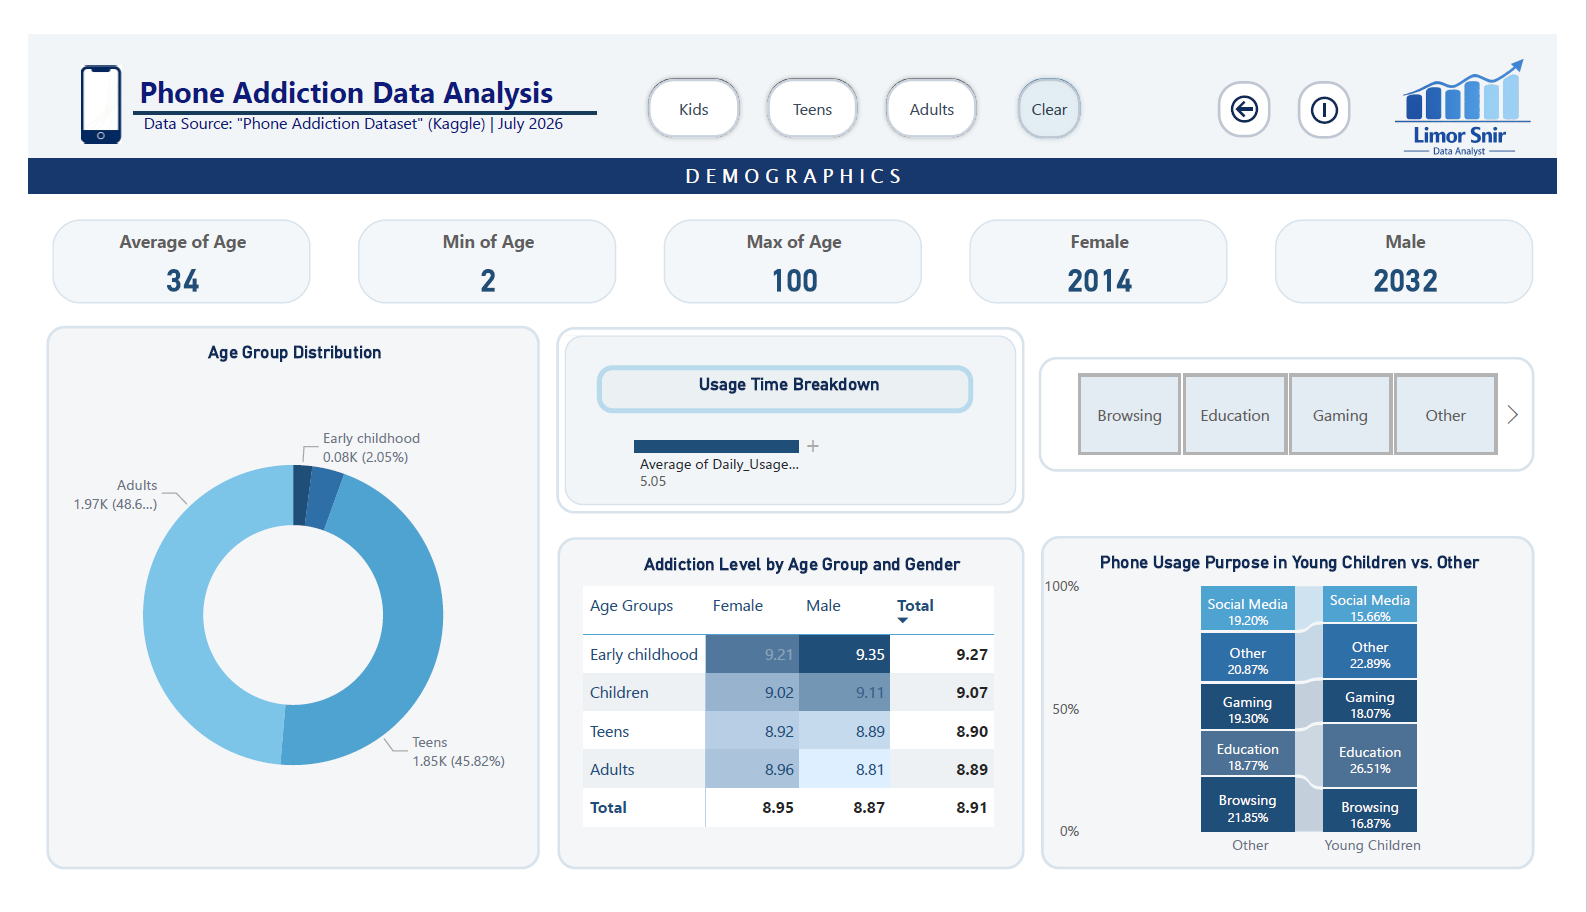

This screenshot's page, from the dashboard's own definition file:
{"tool":"powerbi","page":{"name":"DEMOGRAPHICS","canvas":[1280,720],"ordinal":1},"visuals":[{"type":"decompositionTreeVisual","title":"Average of Addiction Levels by UsagePurpose and Age","fields":{"Analyze":["Avg(phone_addiction_dataset.Daily_Usage_Hours)"],"ExplainBy":["phone_addiction_dataset.Age Groups","phone_addiction_dataset.Phone_Usage_Purpose"]},"box":[476.8,178.6,357.2,227.2],"z":0},{"type":"cardVisual","fields":{"Data":["Avg(phone_addiction_dataset.Age)","Min(phone_addiction_dataset.Age)1","Max(phone_addiction_dataset.Age)2","!measure.Female","!measure.Male"]},"box":[0,100,1280,141.2],"z":1000},{"type":"textbox","title":"text box Title","box":[0,5,1280,108.8],"z":3000},{"type":"shape","box":[442.2,249.7,391.9,156.1],"z":4000},{"type":"card","title":"Usage Time Breakdown","fields":{"Values":["Min(phone_addiction_dataset.Addiction Level Groups)"]},"box":[476.2,282.3,315.2,39.8],"z":5000},{"type":"shape","box":[5.5,74.7,1274.5,71],"z":16000},{"type":"donutChart","title":"Age Group Distribution","fields":{"Category":["phone_addiction_dataset.Age Groups"],"Y":["CountNonNull(phone_addiction_dataset.Index)"]},"box":[15,248.8,412.5,455],"z":29000},{"type":"shape","box":[0,108.8,1280,28.8],"z":32000},{"type":"pivotTable","title":"Addiction Level by Age Group and Gender","fields":{"Rows":["phone_addiction_dataset.Age Groups"],"Values":["Avg(phone_addiction_dataset.Addiction_Level)"],"Columns":["phone_addiction_dataset.Gender"]},"box":[442.7,425.5,391.3,278.8],"z":33000},{"type":"slicer","title":"Select usage purpose","fields":{"Values":["phone_addiction_dataset.Phone_Usage_Purpose"]},"box":[846.2,275.1,414.5,95.4],"z":35000},{"type":"hundredPercentStackedColumnChart","title":"Phone Usage Purpose in Young Children vs. Other","fields":{"Category":["phone_addiction_dataset.Young Children vs. Other"],"Y":["CountNonNull(phone_addiction_dataset.Index)"],"Series":["phone_addiction_dataset.Phone_Usage_Purpose"]},"box":[848,425.4,413,278.6],"z":36000},{"type":"image","box":[8.6,26.1,104.3,75.1],"z":37000},{"type":"image","box":[1129.7,18.1,141.9,93.2],"z":38000},{"type":"shape","box":[614.6,37.6,83.2,57.7],"z":39000},{"type":"shape","box":[515.3,37.6,83.2,57.7],"z":40000},{"type":"actionButton","box":[825,38,60,58.3],"z":41000},{"type":"shape","box":[715.3,37.6,83.2,57.7],"z":42000},{"type":"shape","box":[87.7,0,388.2,140.5],"z":43000},{"type":"actionButton","box":[1062.5,44,44,47.5],"z":44000},{"type":"actionButton","box":[996.2,44,44,47],"z":45000}]}

Visuals, with their boxes in screenshot pixels (x1, y1, x2, y2), scaled from the page's 1280x720 canvas onto the 1587x912 screenshot:
"Average of Addiction Levels by UsagePurpose and Age" decompositionTreeVisual: 591, 226, 1034, 514
cardVisual - Avg(phone_addiction_dataset.Age) x Min(phone_addiction_dataset.Age)1: 0, 127, 1586, 306
"text box Title" textbox: 0, 6, 1586, 144
shape: 548, 316, 1034, 514
"Usage Time Breakdown" card: 590, 358, 981, 408
shape: 7, 95, 1586, 185
"Age Group Distribution" donutChart: 19, 315, 530, 891
shape: 0, 138, 1586, 174
"Addiction Level by Age Group and Gender" pivotTable: 549, 539, 1034, 892
"Select usage purpose" slicer: 1049, 348, 1563, 469
"Phone Usage Purpose in Young Children vs. Other" hundredPercentStackedColumnChart: 1051, 539, 1563, 892
image: 11, 33, 140, 128
image: 1401, 23, 1577, 141
shape: 762, 48, 865, 121
shape: 639, 48, 742, 121
actionButton: 1023, 48, 1097, 122
shape: 887, 48, 990, 121
shape: 109, 0, 590, 178
actionButton: 1317, 56, 1372, 116
actionButton: 1235, 56, 1290, 115
